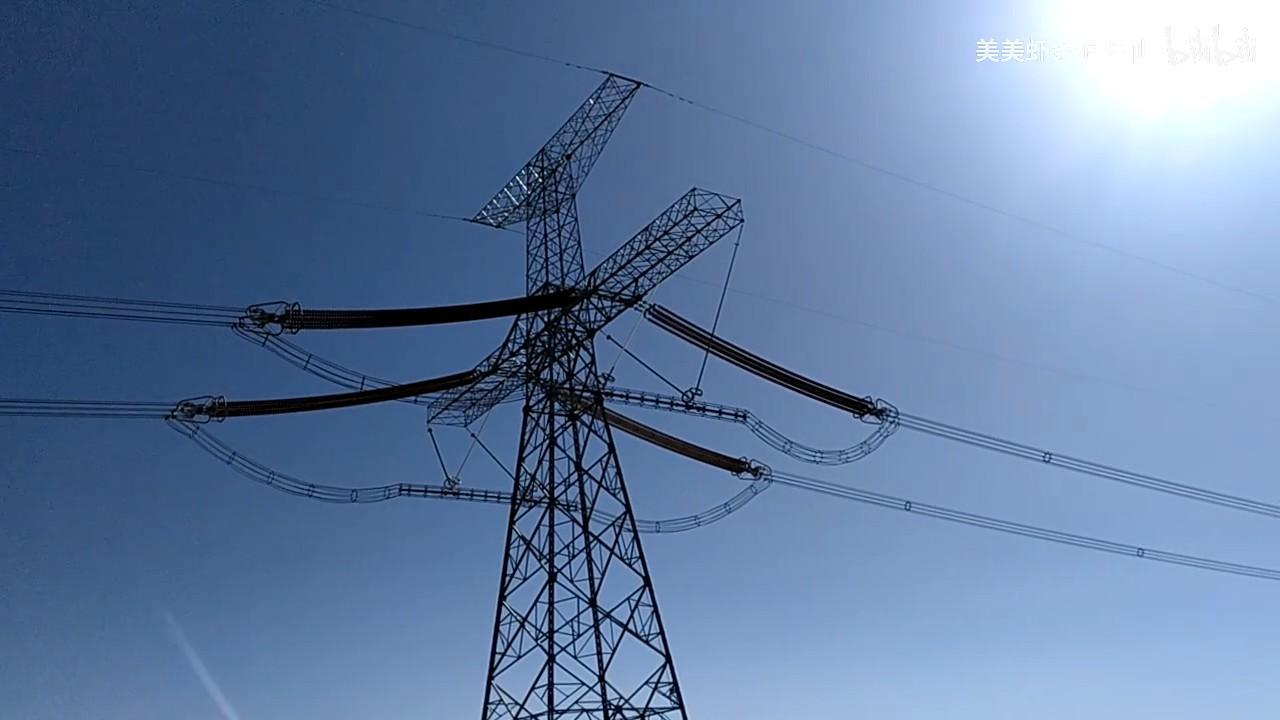power_tower: (170, 74, 900, 720)
